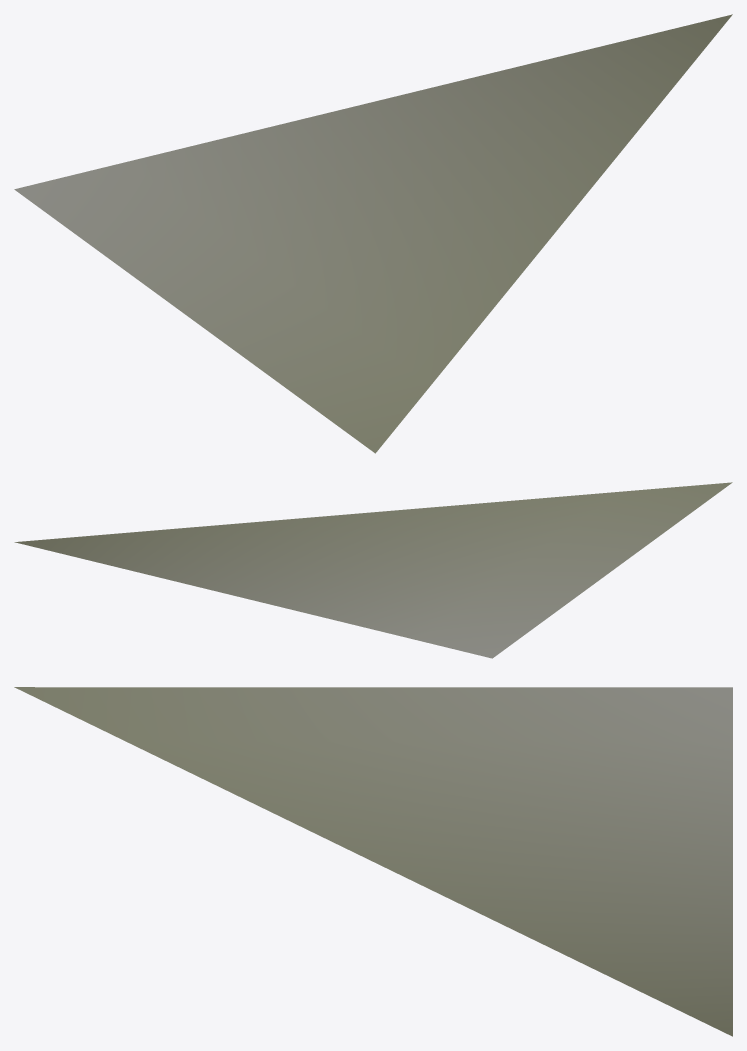
File: LSMP_-1_-2.glb
3 views of the same model, one above another, from view 1: azimuth 30°, elevation 25°; view 2: azimuth 150°, elevation 25°; view 3: azimuth 270°, elevation 25° (orthographic). The views are drawn at different scales.
Parts seen in each view (by area): view 1: pavement_LSMP_pavement_5119_2374; view 2: pavement_LSMP_pavement_5119_2374; view 3: pavement_LSMP_pavement_5119_2374.
Boxes of the visible parts, x1=… form: pavement_LSMP_pavement_5119_2374: x1=14, y1=14, x2=732, y2=453; pavement_LSMP_pavement_5119_2374: x1=14, y1=482, x2=732, y2=658; pavement_LSMP_pavement_5119_2374: x1=14, y1=687, x2=732, y2=1036.
Bounding box in the file's own units: 3.53 × 0.0035 × 3.07.
Materials: 1 (1 with a texture image).
